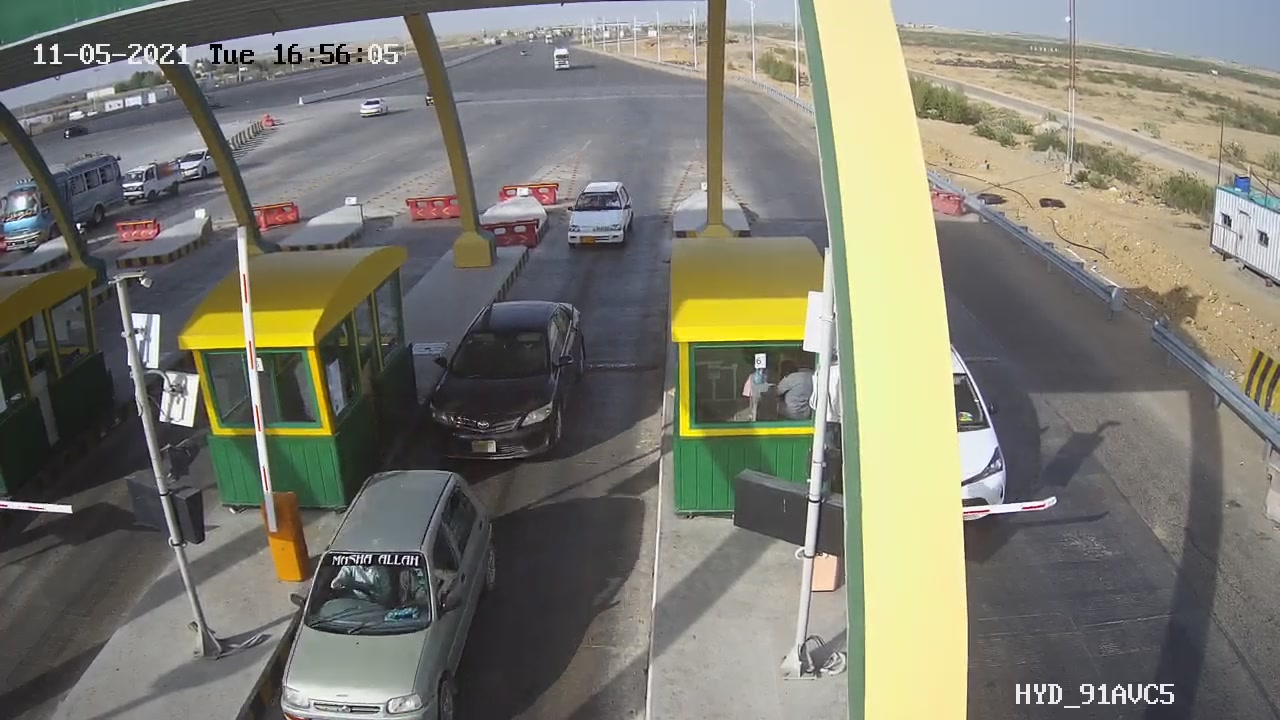F1: (402, 288, 614, 482), (552, 169, 646, 263)
